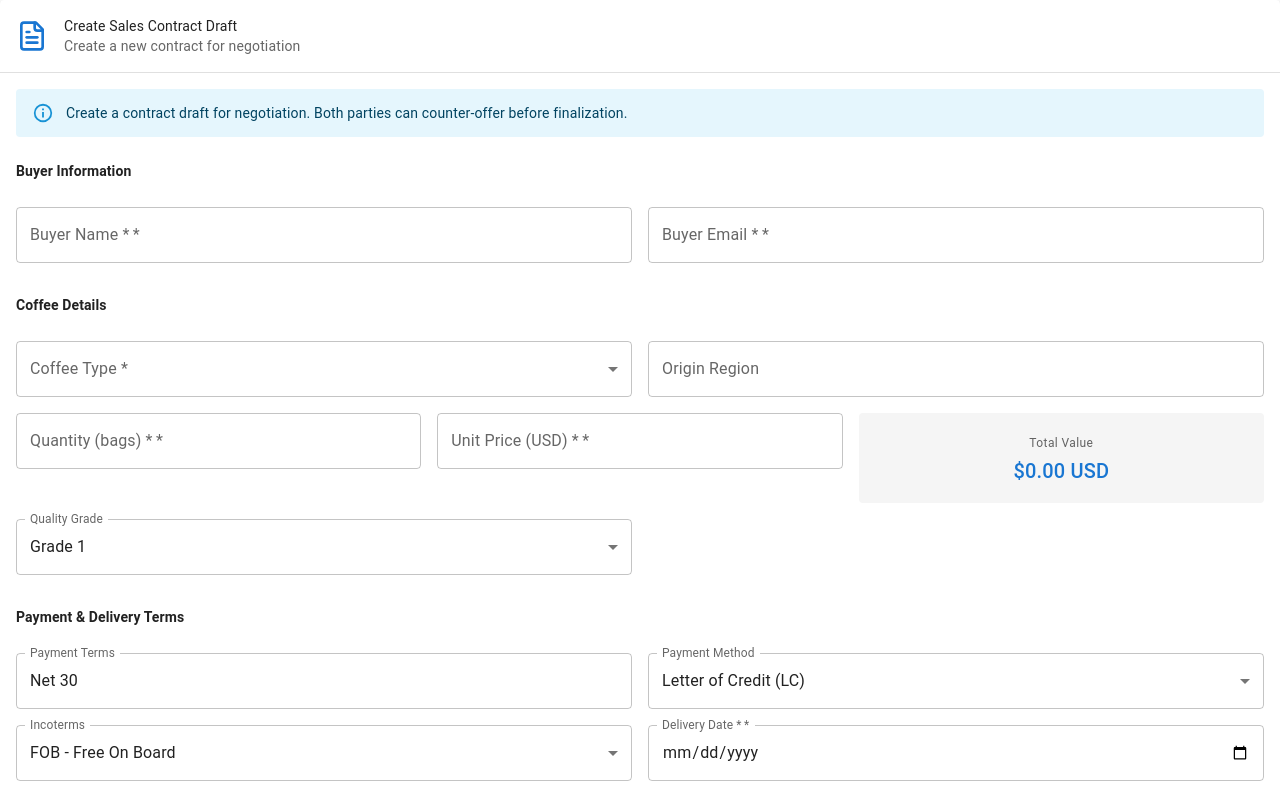
SalesContractDraftForm Component › Form Field Validation › should show error for invalid unit price (zero)
Type "0" into the number field labelled "Unit Price (USD) * *" at x=640, y=441, box [437,413,843,469]
(page scrolled)
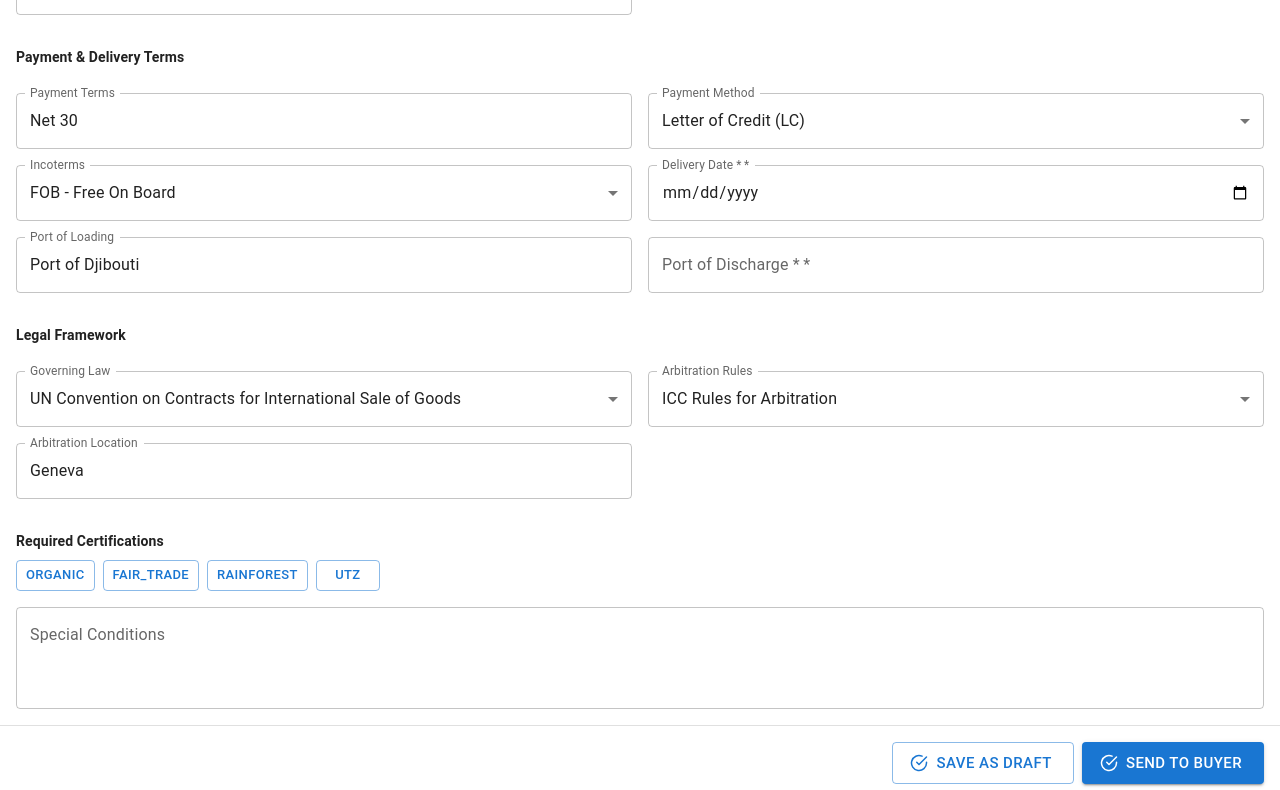
Click the button "Save as Draft" at x=983, y=763, box [892,742,1074,784]
(page scrolled)
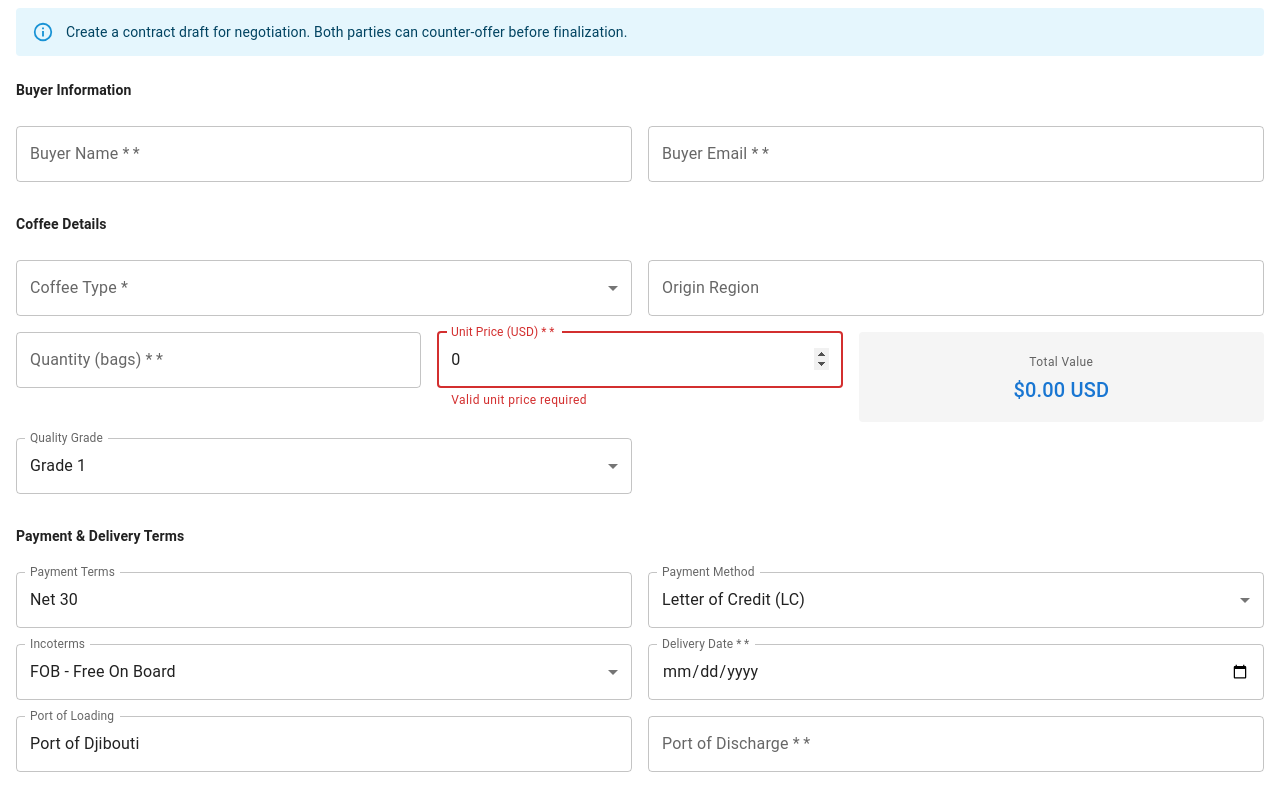
Now the text "Valid unit price required" is shown, box [451,393,587,407]
